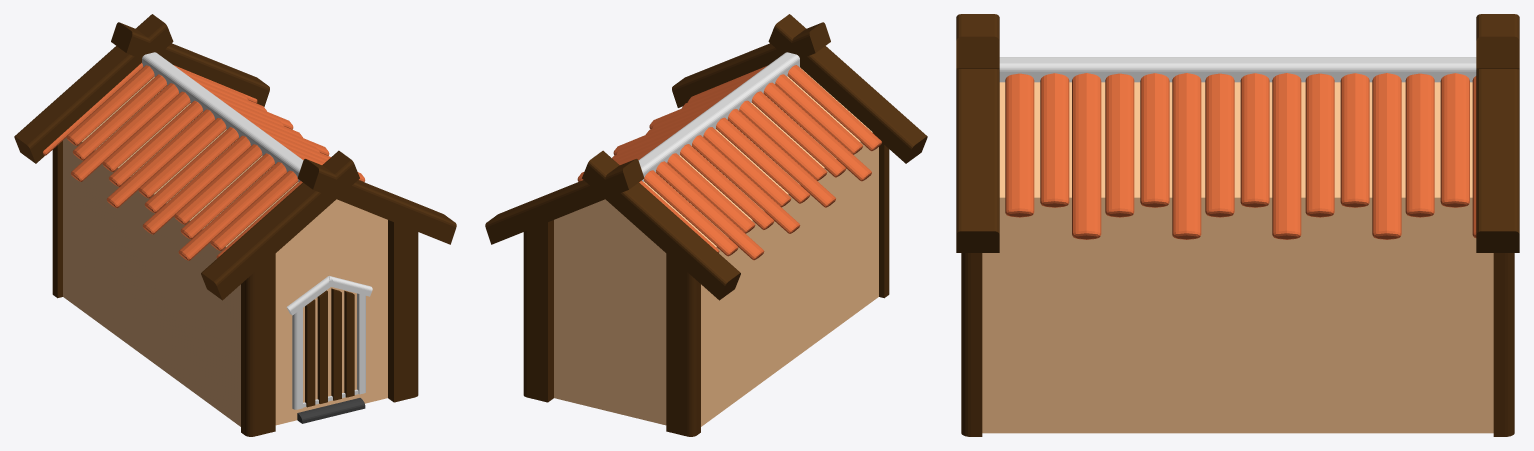
Rendered from learn.fbx.
The picture shows the model from 3 angles, left to right: view 1: azimuth 30°, elevation 25°; view 2: azimuth 150°, elevation 25°; view 3: azimuth 270°, elevation 25°; orthographic projection. The views are drawn at different scales.
Visible parts, largest first — view 1: House, Cube.002, Cylinder, Cube.001, Cube.009, Cube.007, Cube.006, Cube.005, Cube.003, Cube.010, Cube.004; view 2: House, Cube.002, Cylinder, Cube.001; view 3: House, Cylinder, Cube.002, Cube.001.
Part boxes in pixels (x1,y1,x2,y2): House: (63, 76, 387, 426); Cube.002: (14, 14, 456, 436); Cylinder: (42, 63, 365, 260); Cube.001: (142, 52, 303, 181); Cube.009: (292, 293, 365, 409); Cube.007: (331, 288, 341, 400); Cube.006: (317, 290, 327, 403); Cube.005: (344, 290, 354, 397); Cube.003: (305, 299, 315, 407); Cube.010: (286, 276, 372, 315); Cube.004: (297, 398, 365, 423); House: (554, 67, 878, 426); Cube.002: (485, 14, 927, 436); Cylinder: (577, 65, 881, 260); Cube.001: (638, 52, 799, 181); House: (982, 82, 1493, 433); Cylinder: (1005, 73, 1476, 239); Cube.002: (956, 14, 1519, 436); Cube.001: (999, 57, 1476, 82).
Size of the model in its own units: 299 by 300 by 433.
